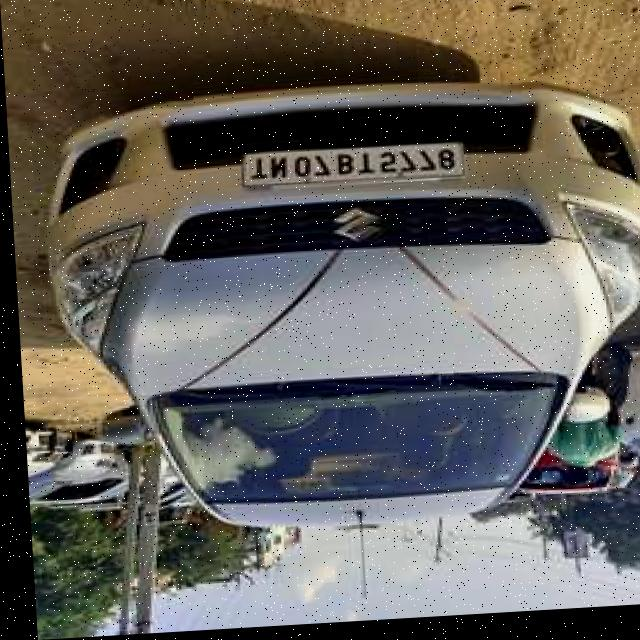plate: (233, 146, 465, 197)
